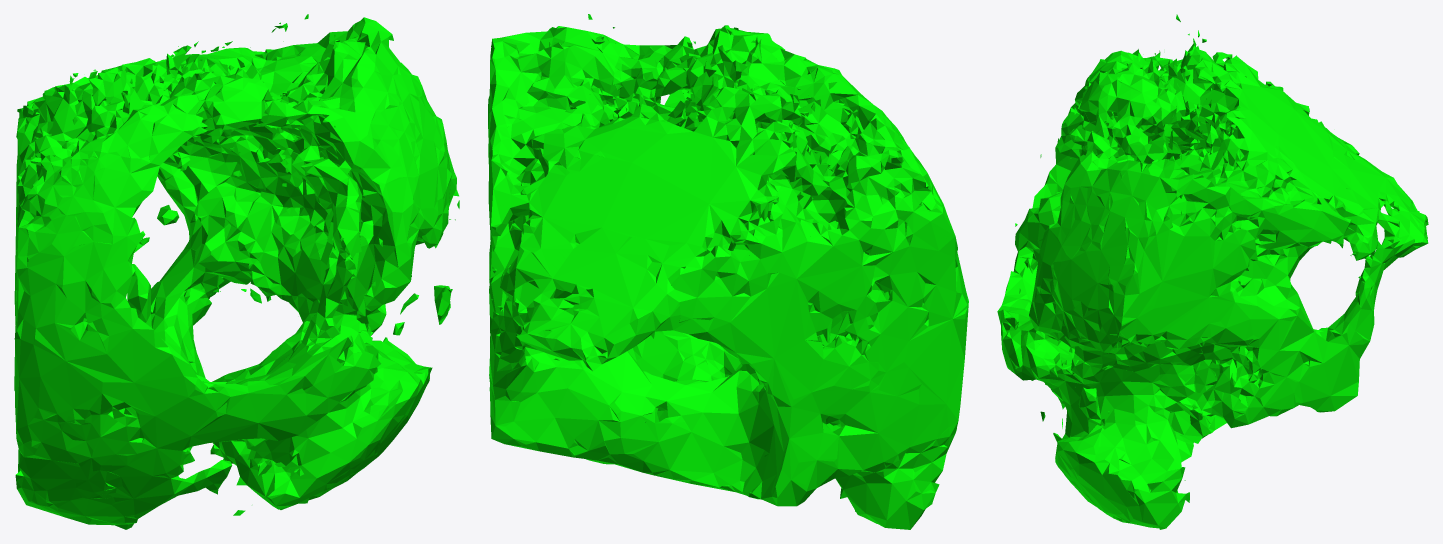
Rendered from B939XXXX-1_base_18.obj.
3 renders of one model, left to right at view 1: azimuth 30°, elevation 25°; view 2: azimuth 150°, elevation 25°; view 3: azimuth 270°, elevation 25°, orthographic. The views are drawn at different scales.
Parts seen in each view (by area): view 1: 18_base; view 2: 18_base; view 3: 18_base.
Boxes of the visible parts, x1=… form: 18_base: x1=14, y1=14, x2=459, y2=529; 18_base: x1=488, y1=14, x2=968, y2=529; 18_base: x1=997, y1=14, x2=1428, y2=529.
Bounding box in the file's own units: 218 × 214 × 203.
